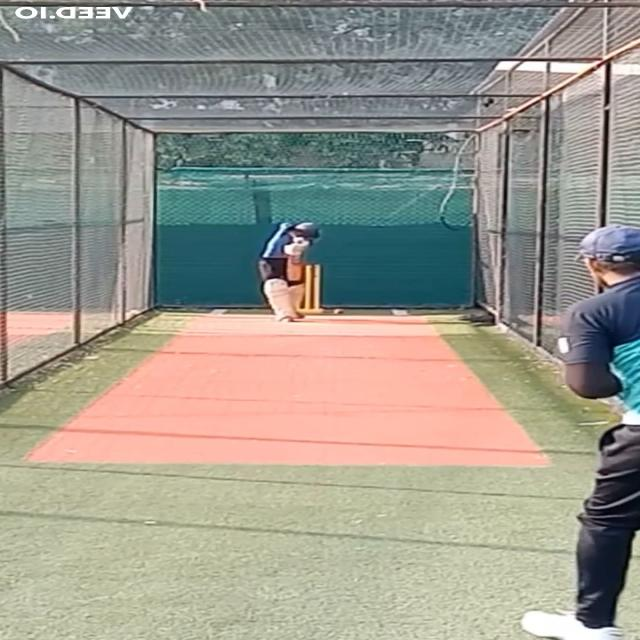ball: (333, 308, 344, 316)
stump: (301, 265, 324, 314)
